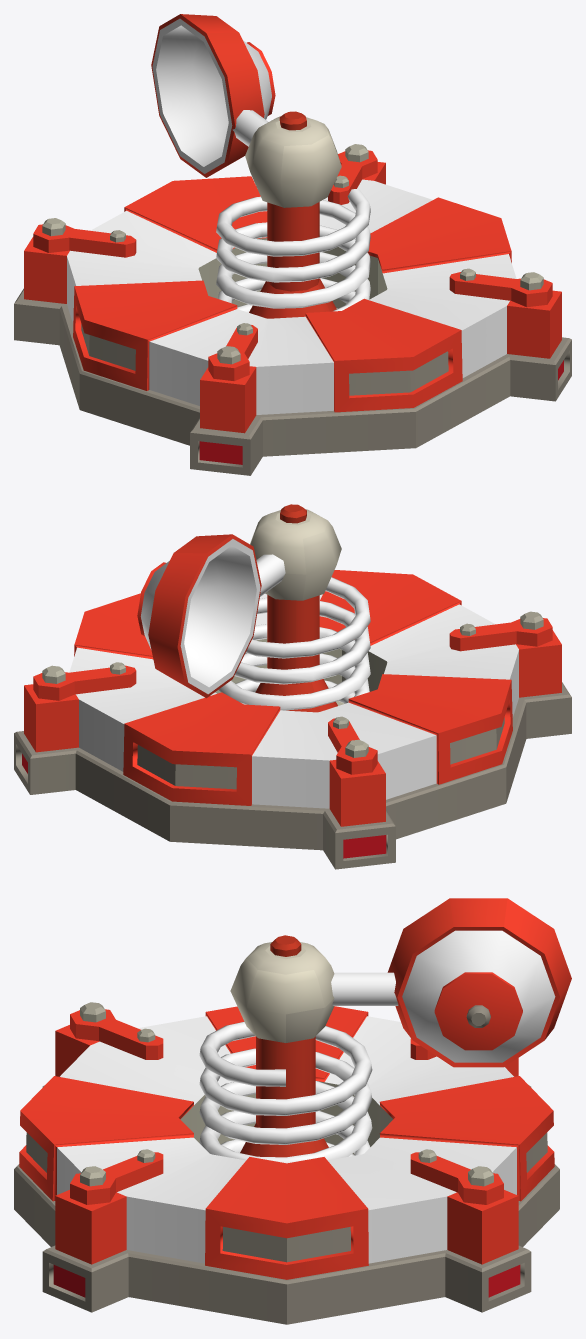
The model's file is island8.defense2.fbx.
The picture shows the model from 3 angles, top to bottom: view 1: azimuth 30°, elevation 25°; view 2: azimuth 150°, elevation 25°; view 3: azimuth 270°, elevation 25°; orthographic projection. The views are drawn at different scales.
Visible parts, largest first — view 1: island8-defense2, island8-defense2.02, island8-defense2.01; view 2: island8-defense2, island8-defense2.02, island8-defense2.01; view 3: island8-defense2, island8-defense2.02, island8-defense2.01.
Part boxes in pixels (x1,y1,x2,y2): island8-defense2: [14, 144, 571, 475]; island8-defense2.02: [151, 14, 341, 318]; island8-defense2.01: [216, 188, 370, 312]; island8-defense2: [14, 570, 571, 869]; island8-defense2.02: [137, 504, 341, 712]; island8-defense2.01: [218, 577, 370, 710]; island8-defense2: [14, 1002, 559, 1324]; island8-defense2.02: [230, 898, 571, 1157]; island8-defense2.01: [199, 1022, 372, 1163].
Bounding box in the file's own units: 4.21 × 2.59 × 4.31.
1 material, 1 textured.
